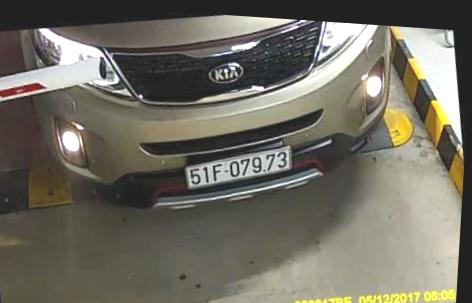License_Plate: (175, 138, 297, 201)
